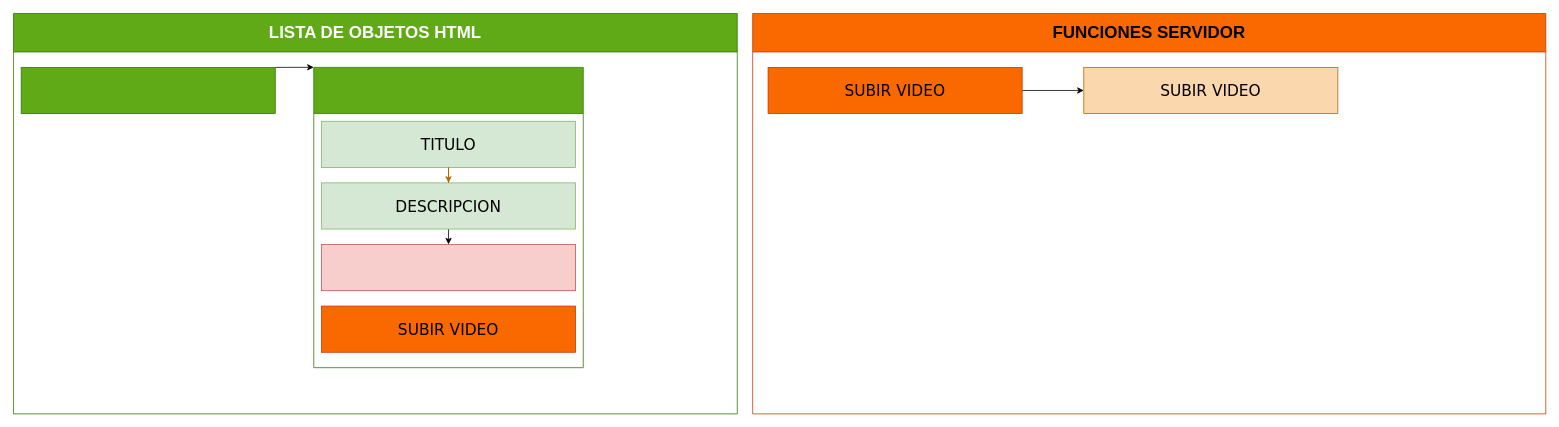
Image size: 1559x427. Some labels were removed from this diagram. The box of each missing label's shape, as (x1, y1, x2, y2) in pixels:
AUTOR: (321, 244, 576, 291)
AÑADIR VIDEO: (20, 67, 275, 114)
FORMULARIO VIDEO: (313, 67, 583, 368)
